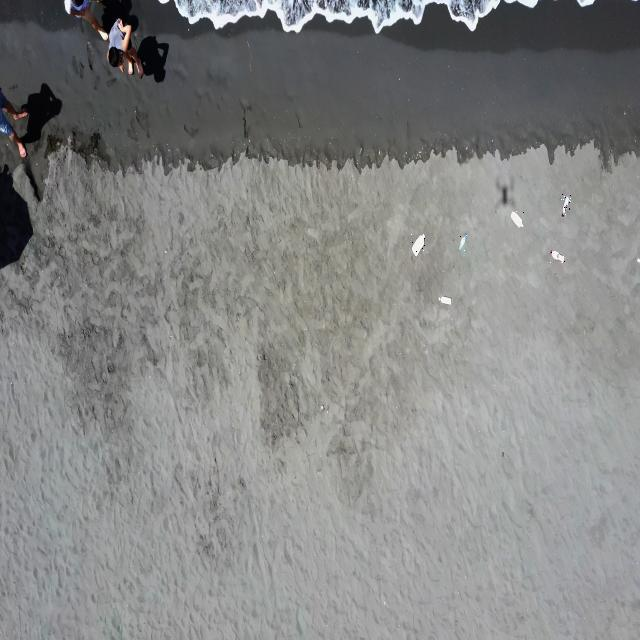plastic-bottle: (411, 232, 426, 257), (550, 248, 566, 264), (511, 210, 524, 229), (561, 194, 571, 218), (437, 292, 452, 306), (459, 232, 468, 252)
